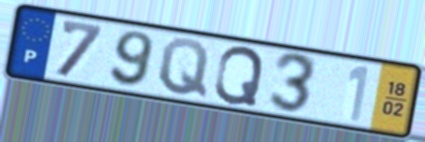1: (346, 64, 371, 124)
3: (266, 50, 318, 117)
7: (56, 17, 105, 80)
9: (106, 29, 156, 90)
Q: (211, 44, 266, 108), (156, 37, 211, 101)
